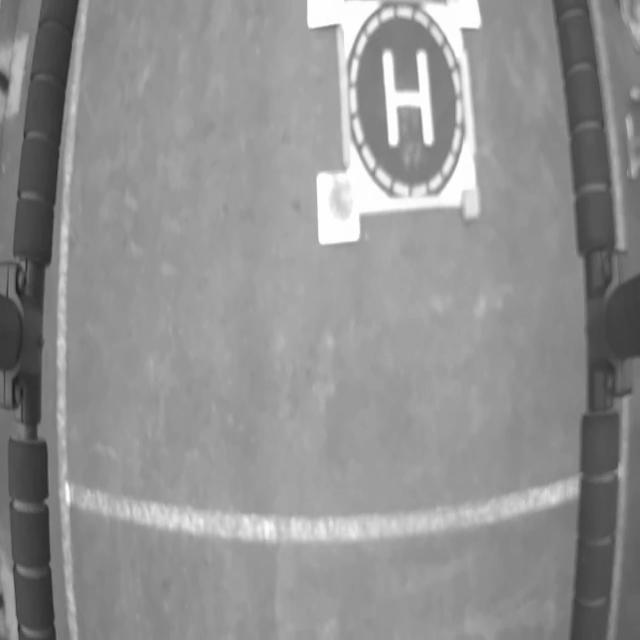Helipad: (380, 50, 434, 149)
